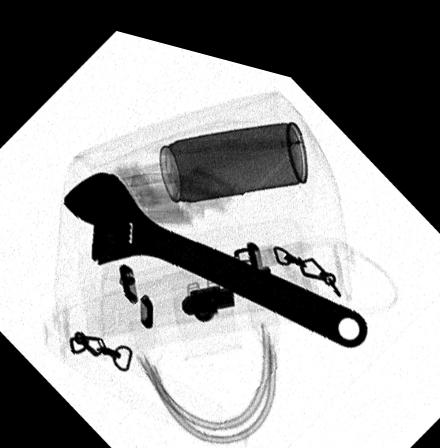Wrench: (60, 166, 367, 329)
